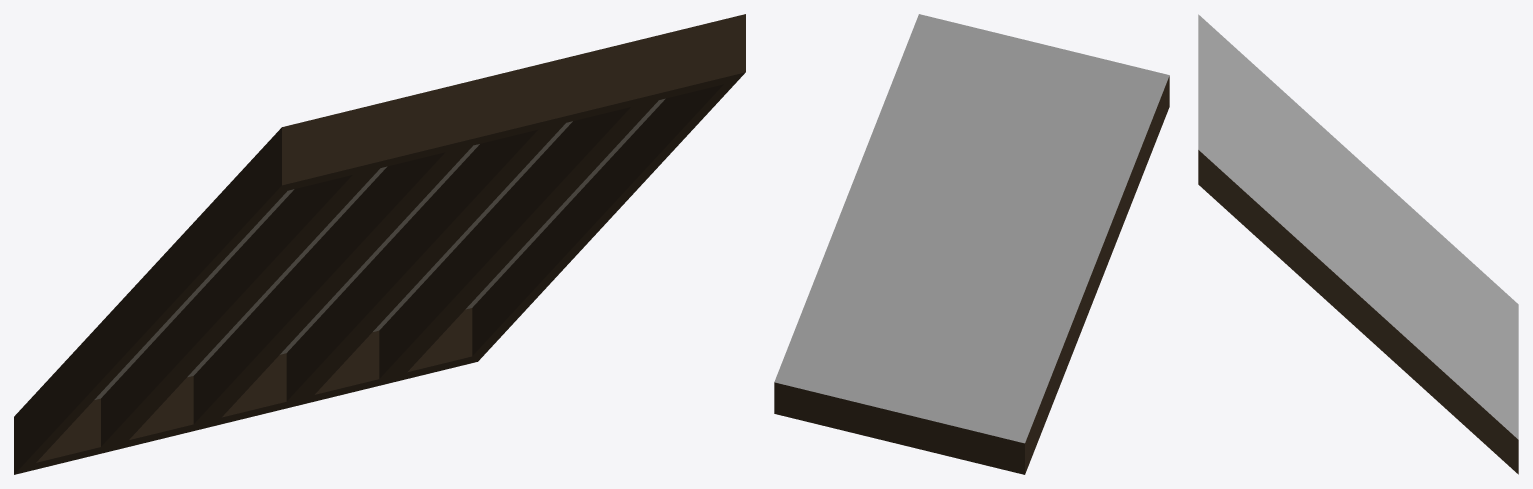
The model's file is Ceiling_5x5_30cmBeams_1mSpacing_CrossBeams.fbx.
3 renders of one model, left to right at view 1: azimuth 30°, elevation 25°; view 2: azimuth 150°, elevation 25°; view 3: azimuth 270°, elevation 25°, orthographic. The views are drawn at different scales.
Visible parts, largest first — view 1: Ceiling_5x5_30cmBeams_1mSpacing_CrossBeams; view 2: Ceiling_5x5_30cmBeams_1mSpacing_CrossBeams; view 3: Ceiling_5x5_30cmBeams_1mSpacing_CrossBeams.
Part boxes in pixels (<box>): Ceiling_5x5_30cmBeams_1mSpacing_CrossBeams: <box>14,14,745,474</box>; Ceiling_5x5_30cmBeams_1mSpacing_CrossBeams: <box>774,14,1169,474</box>; Ceiling_5x5_30cmBeams_1mSpacing_CrossBeams: <box>1198,14,1518,474</box>.
Bounding box in the file's own units: 5 × 5.6 × 5.
